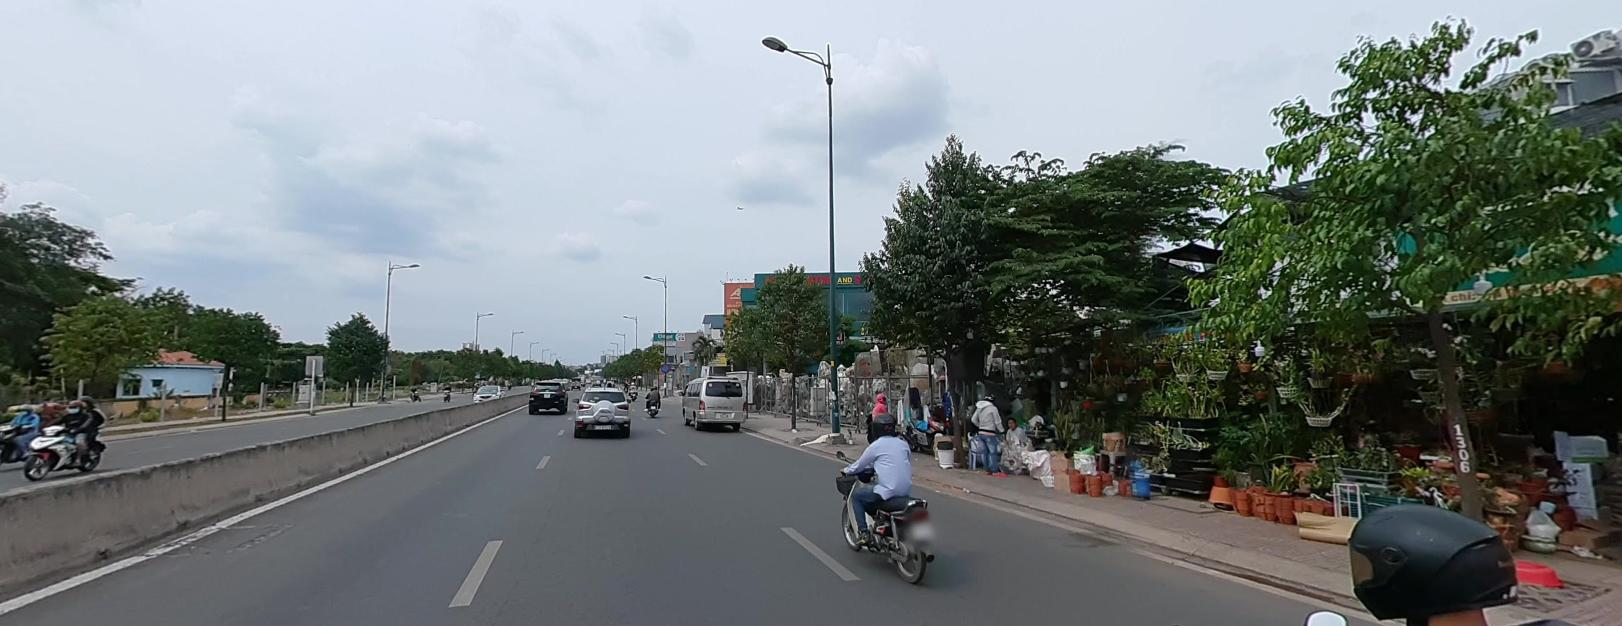Cam dung va do: (661, 362, 670, 371), (661, 362, 670, 370)
